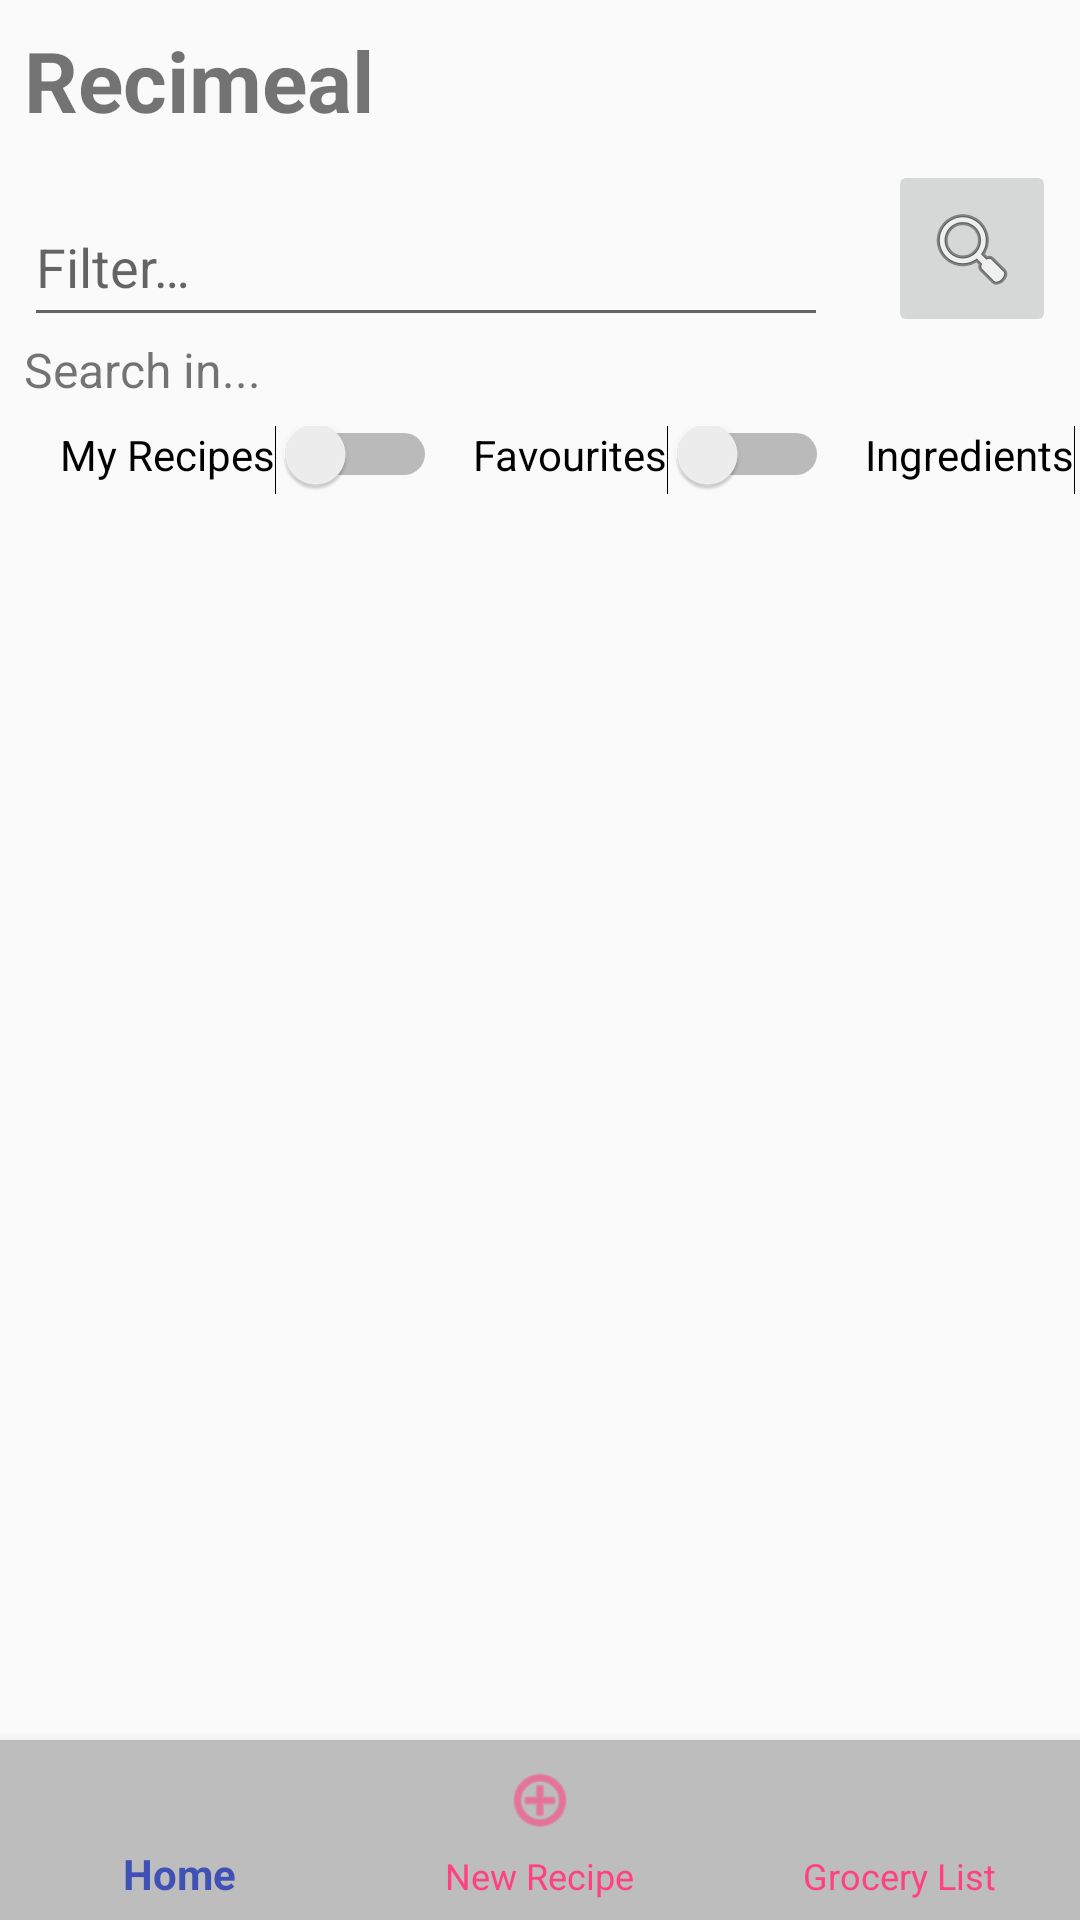

Named icons in this screenshot (1080px x 1920px) and their bounding boxes, (left=x1, top=y1, right=x2, bottom=y2):
Search submit: (left=900, top=178, right=1044, bottom=319)
